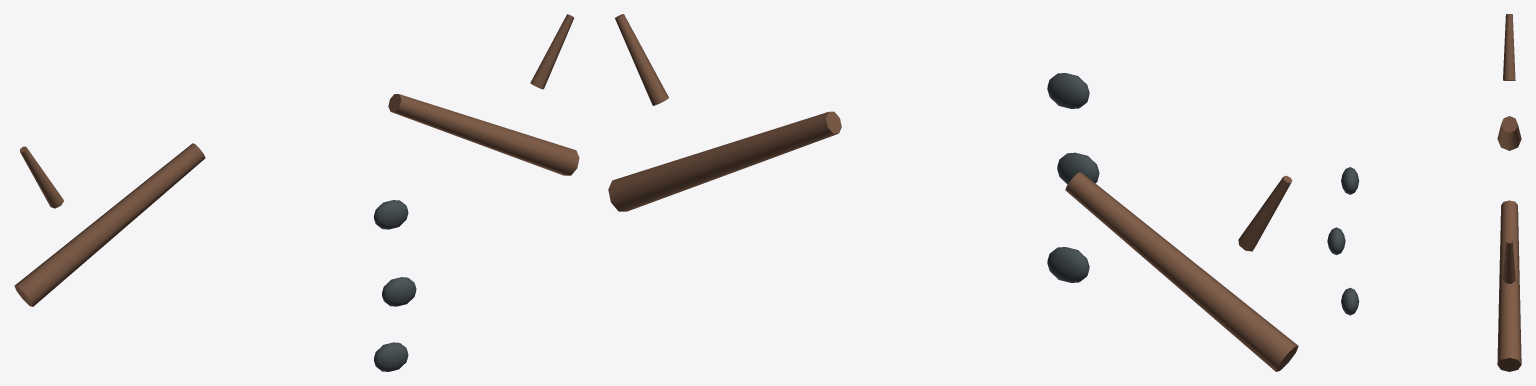
The model's file is twig_buttons.glb.
3 renders of one model, left to right at view 1: azimuth 30°, elevation 25°; view 2: azimuth 150°, elevation 25°; view 3: azimuth 270°, elevation 25°, orthographic. The views are drawn at different scales.
Visible parts, largest first — view 1: TwigArmsAndPebbleButtons; view 2: TwigArmsAndPebbleButtons; view 3: TwigArmsAndPebbleButtons.
Part boxes in pixels (box(x1,y1,x2,y2)): TwigArmsAndPebbleButtons: box(14, 14, 579, 371); TwigArmsAndPebbleButtons: box(608, 14, 1298, 371); TwigArmsAndPebbleButtons: box(1327, 14, 1521, 371).
Size of the model in its own units: 1.81 by 0.6853 by 0.6422.
